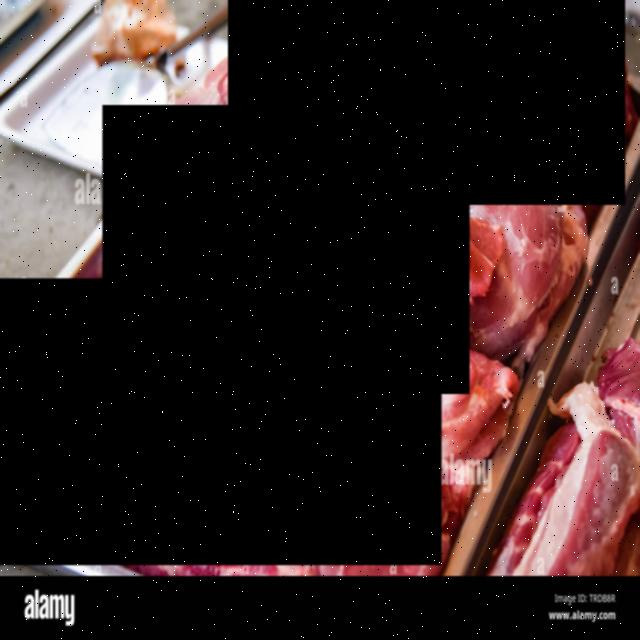Pork: (0, 278, 442, 566), (103, 106, 470, 394), (228, 0, 625, 205)
